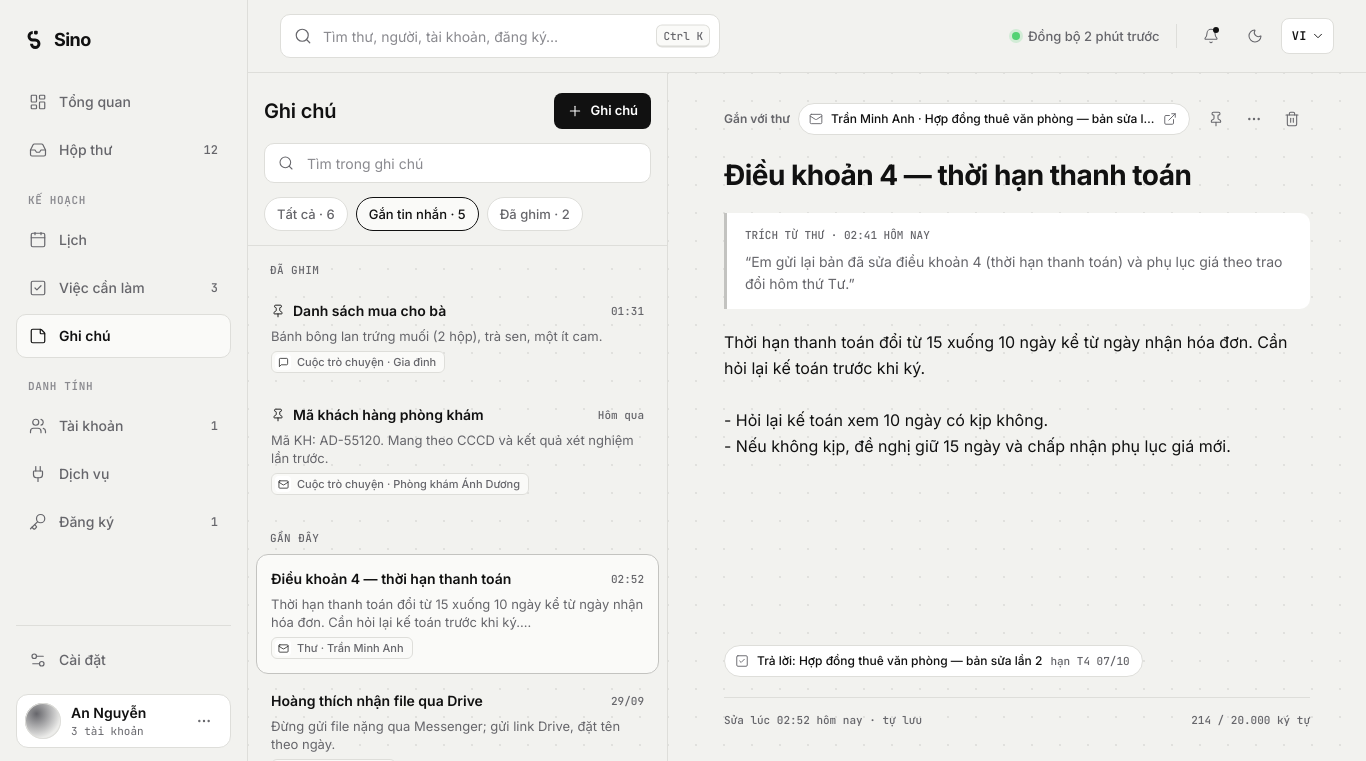
Ghi chú on desktop (NT-02, fe-ui-notes) › asks before deleting, and goes back to the list after it
This screenshot has width=1366, height=761.
Click the button named "Xóa ghi chú": (1292, 119) [1274,101,1310,137]
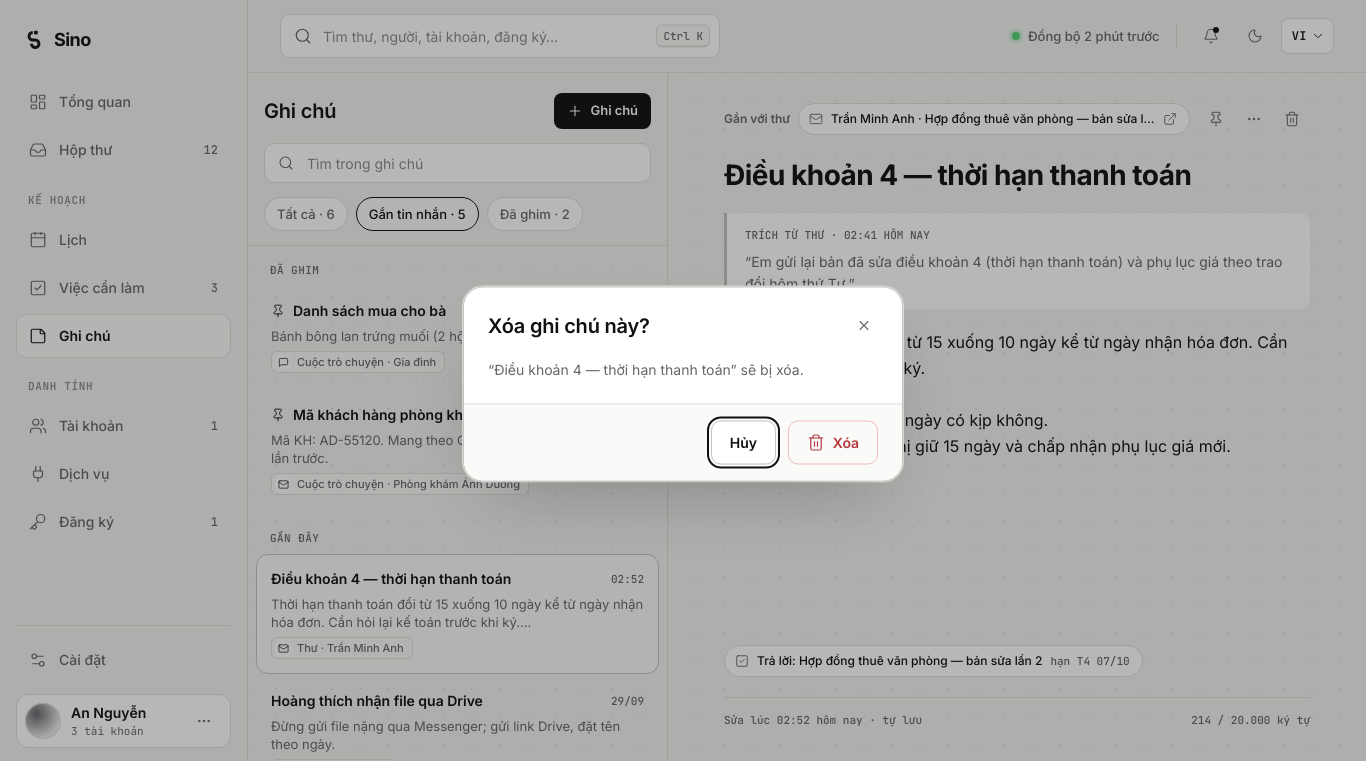
Click the button "Hủy": (743, 442) [711,420,776,464]
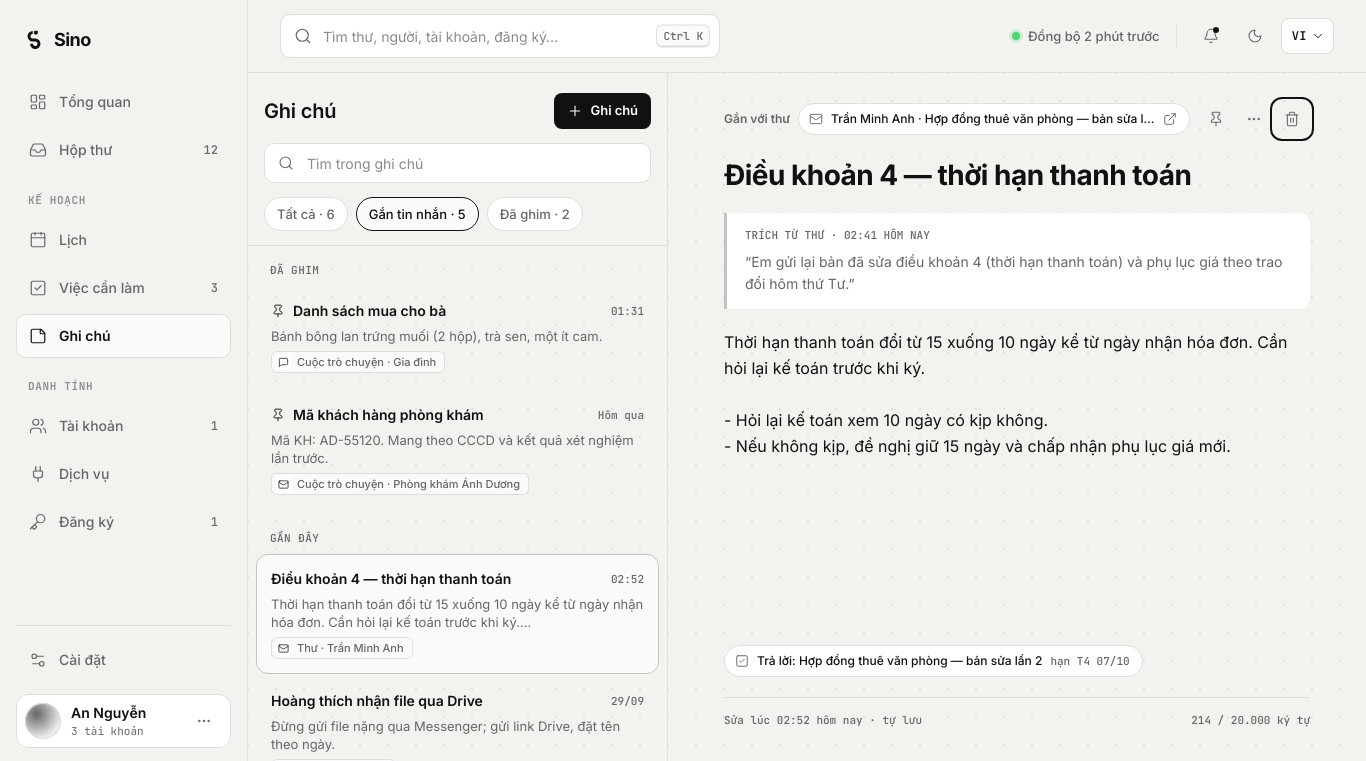
Expected: the text "Điều khoản 4 — thời hạn thanh toán" is shown, [271,569,511,589]
Click the button named "Xóa ghi chú": (1292, 119) [1274,101,1310,137]
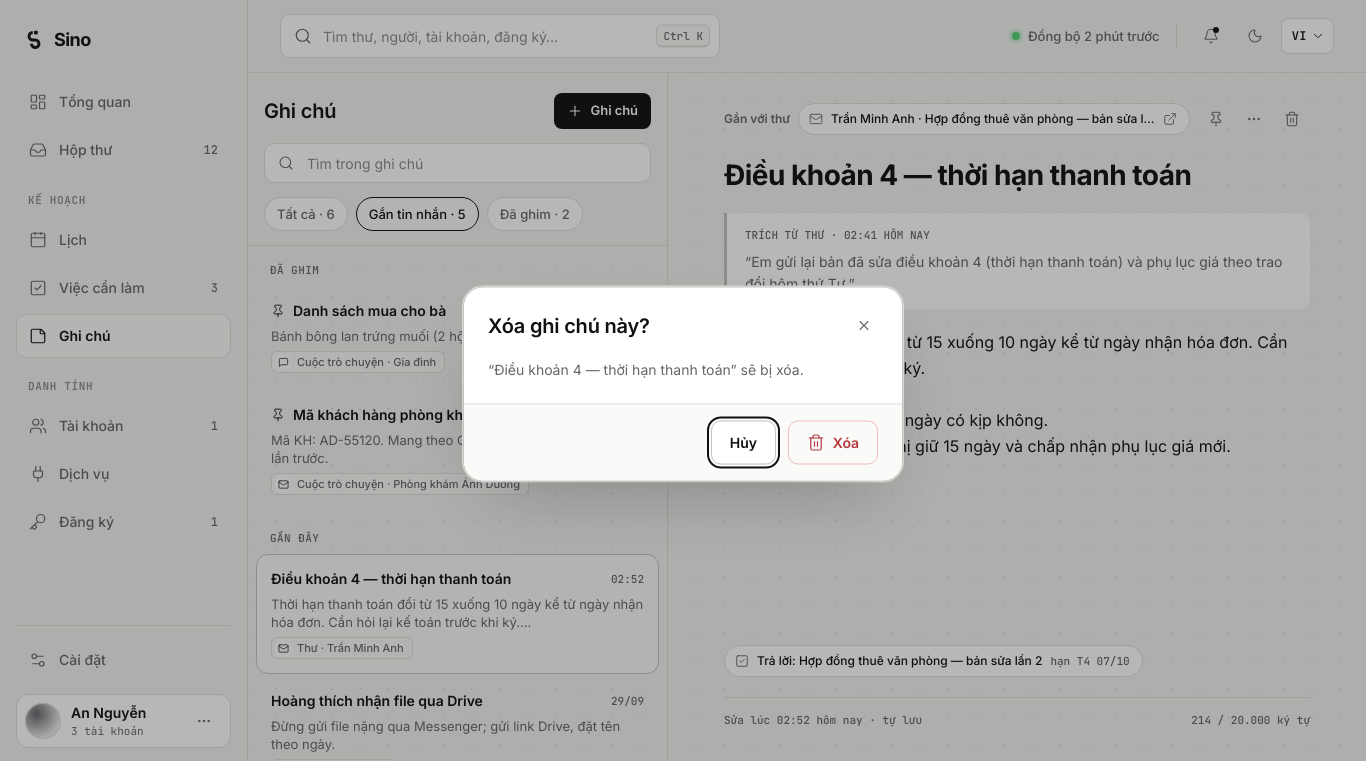
Click the button "Xóa": (833, 442) [788,420,878,464]
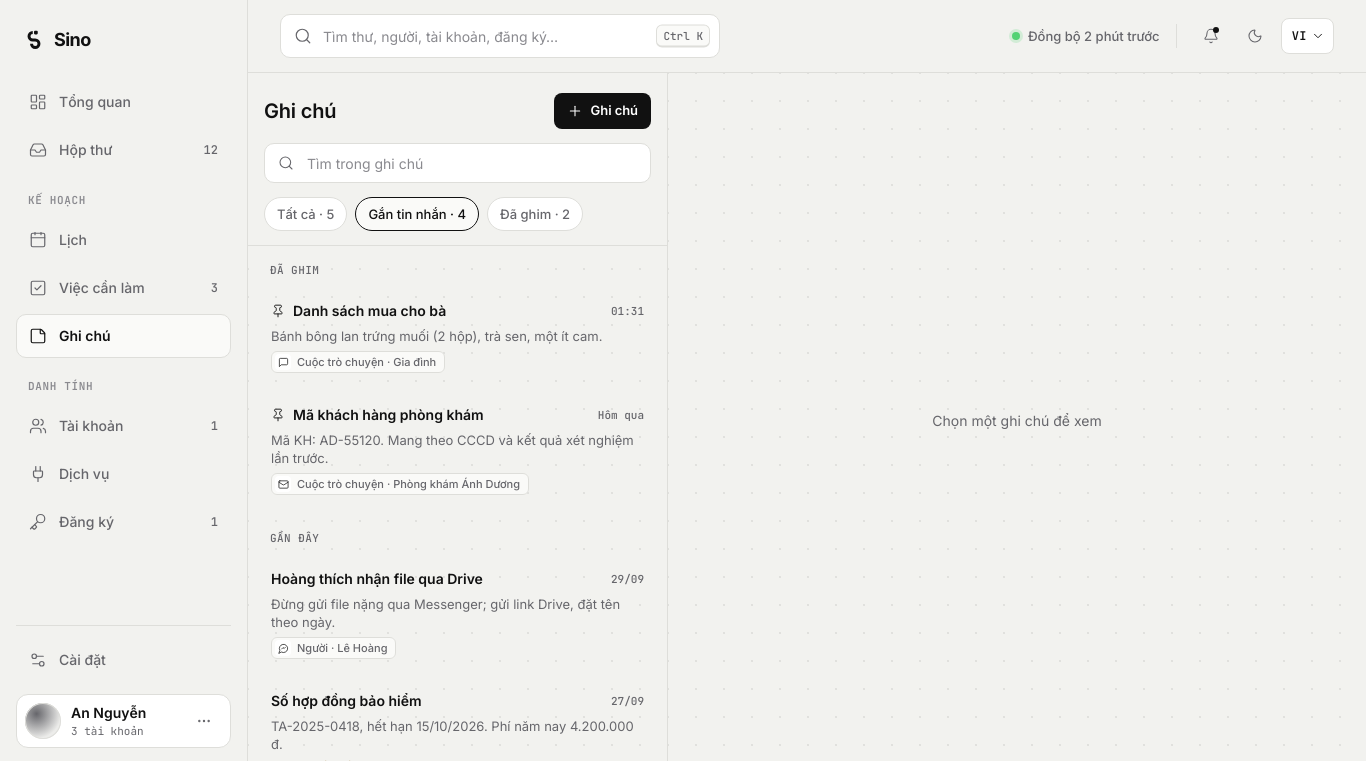
Expected: the link "Điều khoản 4 — thời hạn thanh toán" no longer shows "Điều khoản 4 — thời hạn thanh toán"
